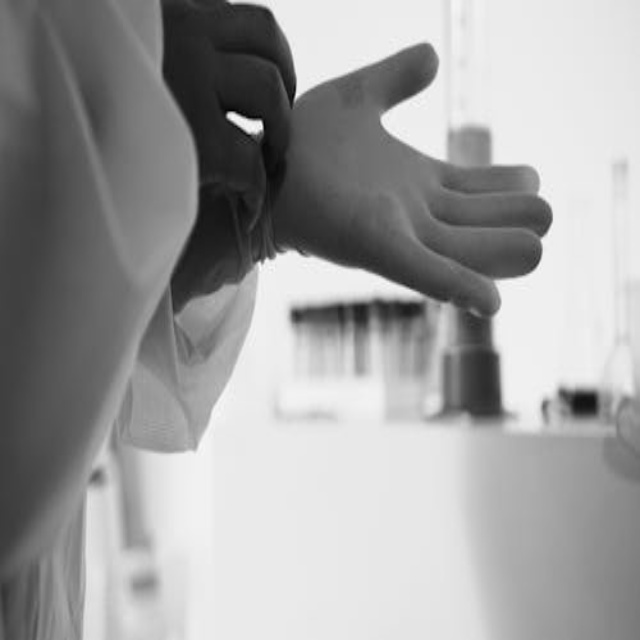Sin_guantes: (267, 36, 550, 325), (157, 0, 293, 305)
